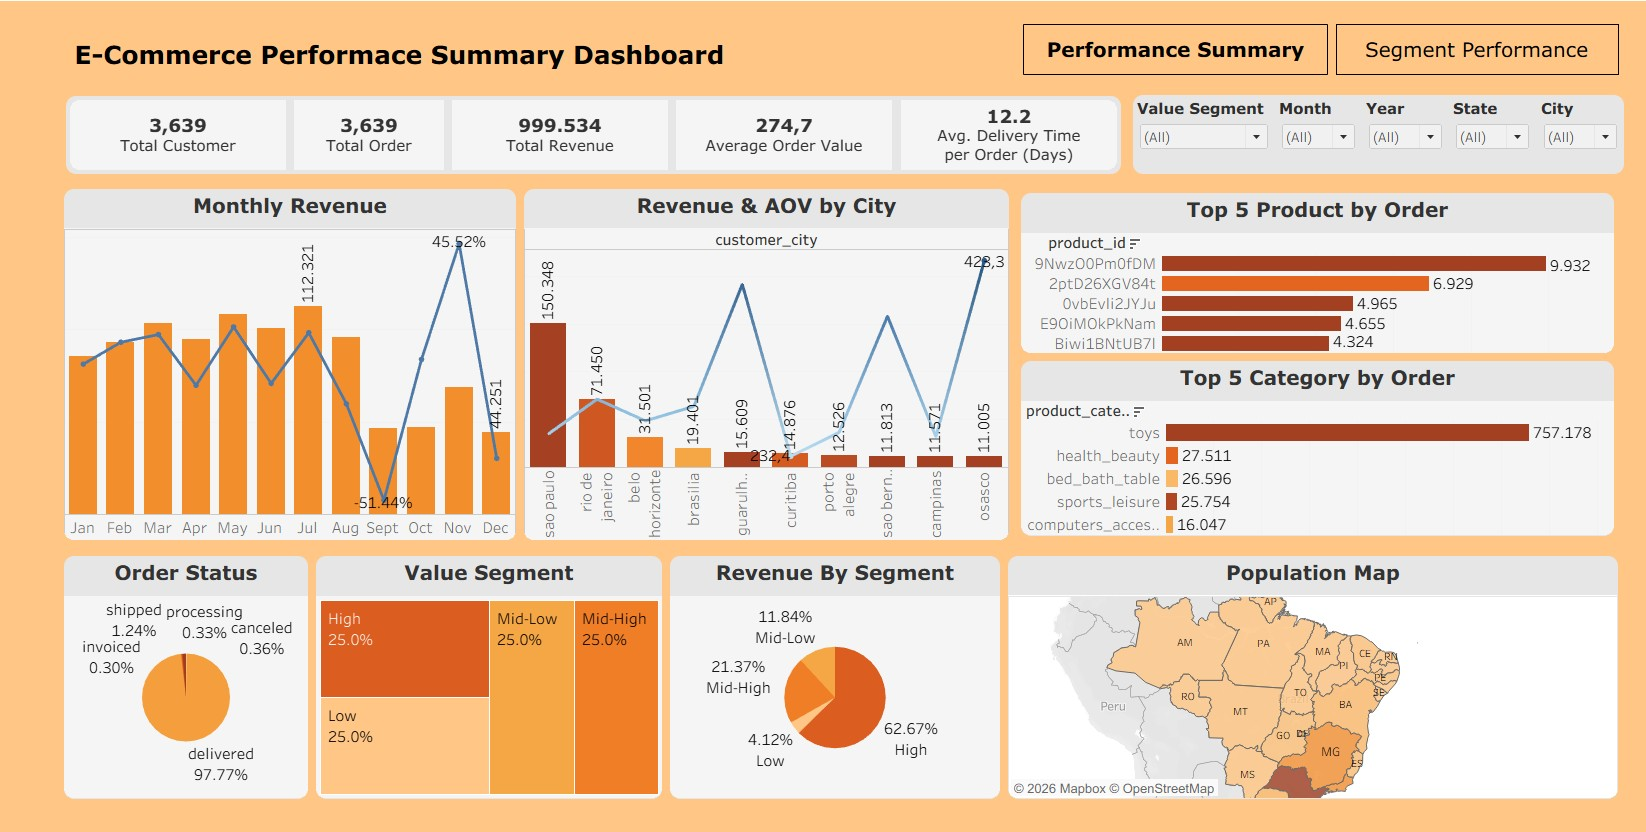

The dashboard page shown, as its layout file describes it:
{"tool":"tableau","page":{"name":"Dashboard 1","canvas":[1000,1000],"units":"permille","ordinal":0},"visuals":[{"type":"blank","box":[0,0,1000,1000]},{"type":"text","box":[45.9,26.1,430.9,81.7]},{"type":"text","box":[618,27,188.9,69.3]},{"type":"dashboard-object","box":[806.9,27,175.6,69.3]},{"type":"filter","title":"Map","param":"[federated.0h7oraq015u8h316jjo3y05ji4so].[none:value_segment:nk]","box":[686.8,114.6,85.7,93.1]},{"type":"filter","title":"Map","param":"[federated.0h7oraq015u8h316jjo3y05ji4so].[mn:order_purchase_timestamp:ok]","box":[772.5,114.6,52.6,93.1]},{"type":"filter","title":"Monthly Revenue","param":"[federated.0h7oraq015u8h316jjo3y05ji4so].[yr:order_purchase_timestamp:ok]","box":[825.1,114.6,52.6,93.1]},{"type":"filter","title":"Map","param":"[federated.0h7oraq015u8h316jjo3y05ji4so].[none:customer_state:nk]","box":[877.8,114.6,52.6,93.1]},{"type":"filter","title":"Map","param":"[federated.0h7oraq015u8h316jjo3y05ji4so].[none:customer_city:nk]","box":[930.4,114.6,52.7,93.1]},{"type":"worksheet","title":"Total User","mark":"Automatic","box":[42.9,115.8,135.3,91.9]},{"type":"worksheet","title":"Total Order","mark":"Automatic","box":[178.2,115.8,95.4,91.9]},{"type":"worksheet","title":"Total Revenue","mark":"Automatic","box":[273.5,115.8,135.3,91.9]},{"type":"worksheet","title":"AOV","mark":"Automatic","box":[408.9,115.8,135.3,91.9]},{"type":"worksheet","title":"AVG Delivery Time","mark":"Automatic","box":[544.2,115.8,135.3,91.9]},{"type":"worksheet","title":"Monthly Revenue","mark":"Bar","rows":["Calculation_2072596102209537","Calculation_2072596102209537"],"cols":["order_purchase_timestamp"],"box":[39.2,220.4,277.6,421.9]},{"type":"worksheet","title":"Revenue & AOV by City","mark":"Automatic","rows":["Calculation_2072596102209537","Calculation_1100078160384000"],"cols":["customer_city"],"box":[316.8,220.4,297.5,421.9]},{"type":"worksheet","title":"Top 10 Product","mark":"Automatic","rows":["product_id"],"cols":["Calculation_2072596102209537"],"box":[616.8,225.1,362.7,197.4]},{"type":"worksheet","title":"Total Order by Category","mark":"Bar","rows":["product_category_name"],"cols":["Calculation_2072596102209537"],"box":[616.8,422.5,362.7,215]},{"type":"worksheet","title":"Pie Order Status","mark":"Pie","box":[39.2,651.6,152.1,294.9]},{"type":"worksheet","title":"TreeMap Segment by Value","mark":"Automatic","box":[191.3,651.6,213.6,294.9]},{"type":"worksheet","title":"Revenue Contribution by Segment","mark":"Pie","box":[404.9,651.6,204,294.9]},{"type":"worksheet","title":"Map","mark":"Multipolygon","box":[608.9,651.6,373,294.9]}]}

Visuals, with their boxes on the dashboard's canvas, which has no fixed pixel size, in thousandths of its width and height (x1, y1, x2, y2). These are canvas units, not pixel positions in the 1646x832 screenshot, which may show the page scaled, cropped or inside an application window:
blank: <region>0, 0, 1000, 1000</region>
text: <region>46, 26, 477, 108</region>
text: <region>618, 27, 807, 96</region>
dashboard-object: <region>807, 27, 982, 96</region>
"Map" filter: <region>687, 115, 772, 208</region>
"Map" filter: <region>772, 115, 825, 208</region>
"Monthly Revenue" filter: <region>825, 115, 878, 208</region>
"Map" filter: <region>878, 115, 930, 208</region>
"Map" filter: <region>930, 115, 983, 208</region>
"Total User" worksheet: <region>43, 116, 178, 208</region>
"Total Order" worksheet: <region>178, 116, 274, 208</region>
"Total Revenue" worksheet: <region>274, 116, 409, 208</region>
"AOV" worksheet: <region>409, 116, 544, 208</region>
"AVG Delivery Time" worksheet: <region>544, 116, 680, 208</region>
"Monthly Revenue" worksheet (Bar marks): <region>39, 220, 317, 642</region>
"Revenue & AOV by City" worksheet: <region>317, 220, 614, 642</region>
"Top 10 Product" worksheet: <region>617, 225, 980, 422</region>
"Total Order by Category" worksheet (Bar marks): <region>617, 422, 980, 638</region>
"Pie Order Status" worksheet (Pie marks): <region>39, 652, 191, 946</region>
"TreeMap Segment by Value" worksheet: <region>191, 652, 405, 946</region>
"Revenue Contribution by Segment" worksheet (Pie marks): <region>405, 652, 609, 946</region>
"Map" worksheet (Multipolygon marks): <region>609, 652, 982, 946</region>
